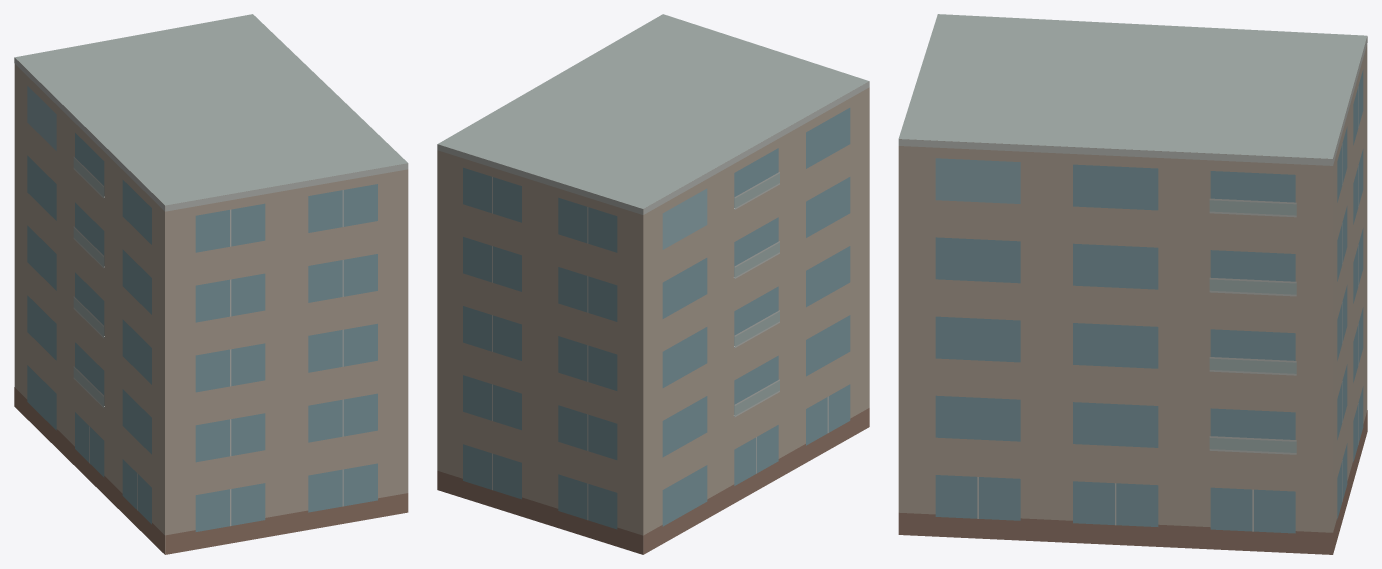
The model's file is survey-upis-32702992.glb.
3 views of the same model, side by side, from view 1: azimuth 30°, elevation 25°; view 2: azimuth 150°, elevation 25°; view 3: azimuth 270°, elevation 25° (orthographic). The views are drawn at different scales.
Parts seen in each view (by area): view 1: survey-upis-32702992.tmp; view 2: survey-upis-32702992.tmp; view 3: survey-upis-32702992.tmp.
Boxes of the visible parts, x1,y1,x2,y2 form: survey-upis-32702992.tmp: (14,14,408,554); survey-upis-32702992.tmp: (437,14,869,554); survey-upis-32702992.tmp: (898,14,1367,554).
Size of the model in its own units: 10.93 by 13.9 by 14.93.
